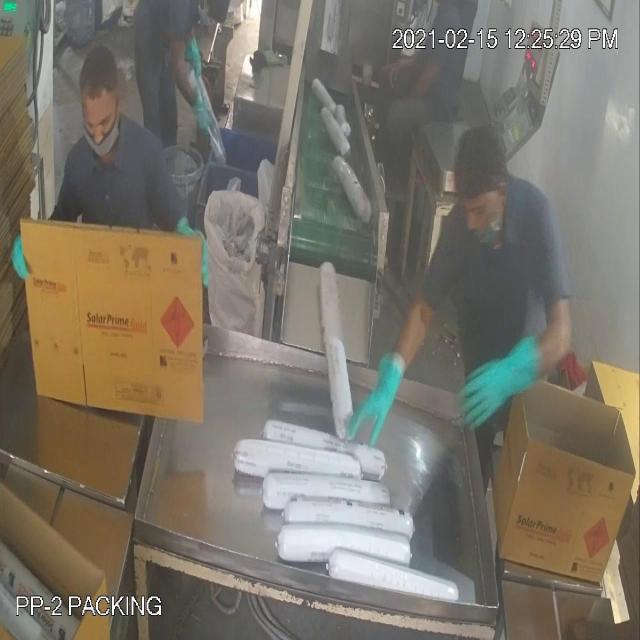Gloves: (44, 36, 498, 400)
